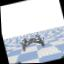drone: (18, 32, 46, 52)
